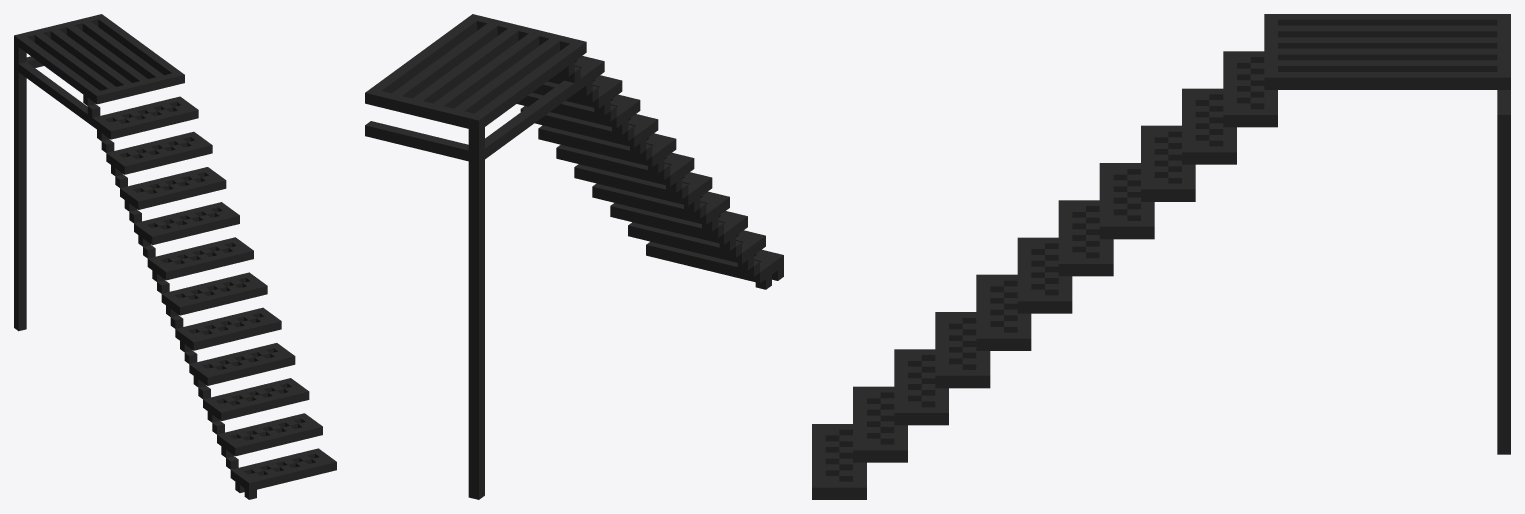
Rendered from ExteriorMetalStair.obj.
3 renders of one model, left to right at view 1: azimuth 30°, elevation 25°; view 2: azimuth 150°, elevation 25°; view 3: azimuth 270°, elevation 25°, orthographic. The views are drawn at different scales.
Bounding box in the file's own units: 1.1 × 3.5 × 5.1.
1 material, 1 textured.
